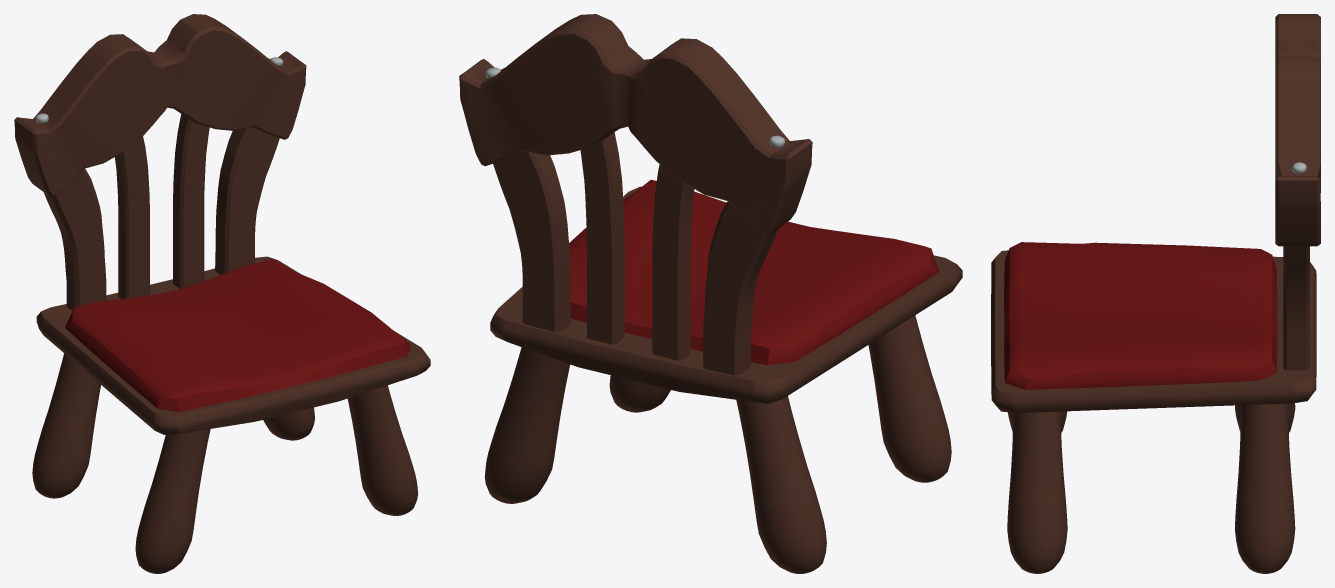
The model's file is chair.fbx.
3 renders of one model, left to right at view 1: azimuth 30°, elevation 25°; view 2: azimuth 150°, elevation 25°; view 3: azimuth 270°, elevation 25°, orthographic. The views are drawn at different scales.
Parts seen in each view (by area): view 1: seat_cushion, chair_mustache, chair_back, chair_legs1, seat; view 2: chair_mustache, chair_back, chair_legs1, seat_cushion, seat; view 3: seat_cushion, chair_legs1, seat, chair_mustache, chair_back.
Part boxes in pixels (left/top/right/bottom): seat_cushion: left=65, top=258, right=411, bottom=411; chair_mustache: left=14, top=14, right=306, bottom=196; chair_back: left=44, top=114, right=279, bottom=310; chair_legs1: left=32, top=353, right=418, bottom=573; seat: left=36, top=256, right=430, bottom=434; chair_mustache: left=459, top=14, right=812, bottom=235; chair_back: left=493, top=132, right=778, bottom=375; chair_legs1: left=484, top=315, right=951, bottom=573; seat_cushion: left=569, top=179, right=939, bottom=365; seat: left=490, top=186, right=962, bottom=403; seat_cushion: left=1004, top=242, right=1277, bottom=389; chair_legs1: left=1007, top=403, right=1295, bottom=573; seat: left=991, top=250, right=1316, bottom=412; chair_mustache: left=1275, top=14, right=1320, bottom=246; chair_back: left=1283, top=246, right=1309, bottom=370.
Size of the model in its own units: 49.41 by 72.57 by 46.19.
